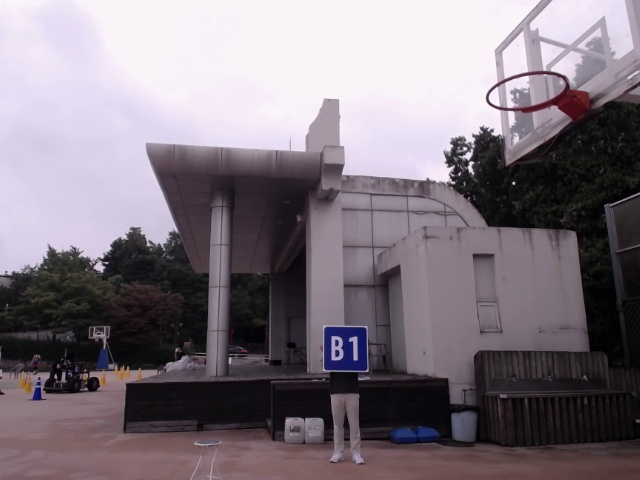delivery_b1: (323, 326, 369, 372), (369, 372, 369, 372)
